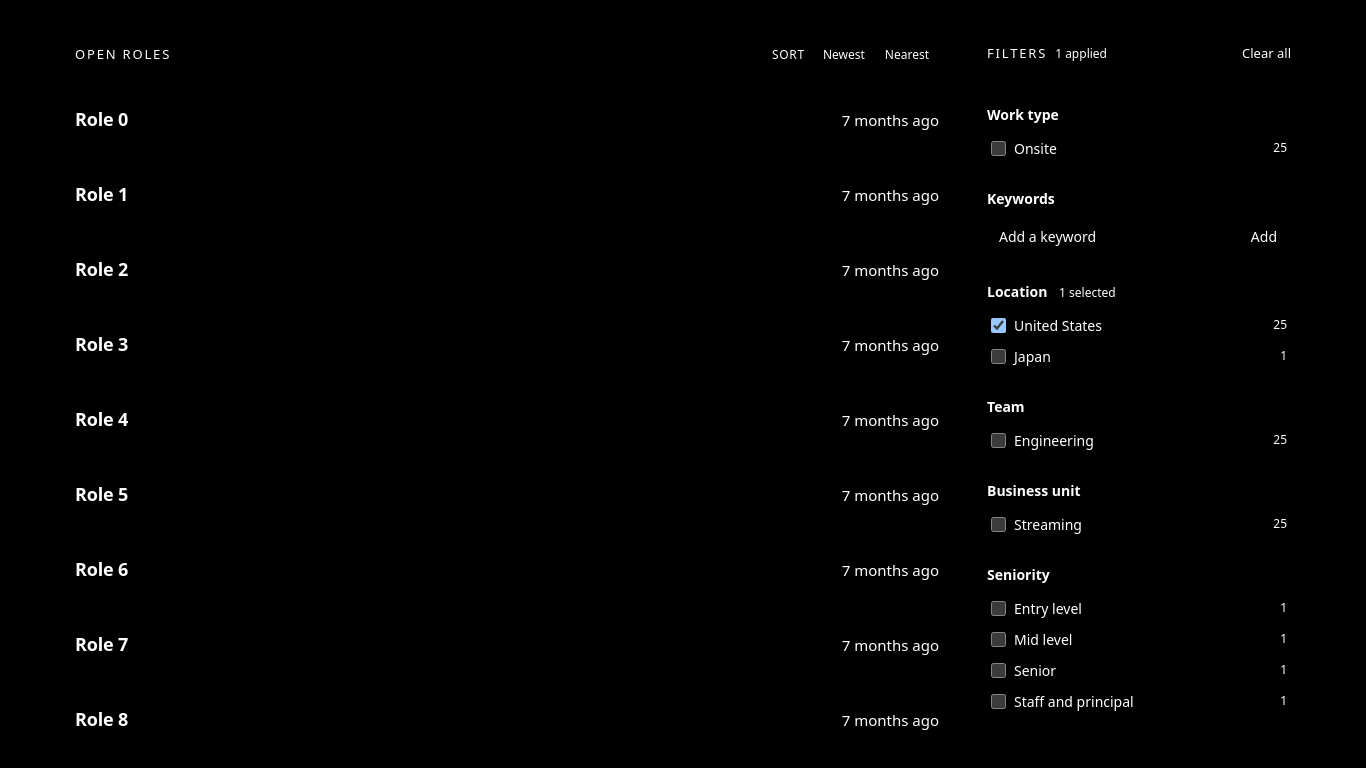
Test: the country, in the browser › remembers everywhere when the visitor unticks their last country
Click the checkbox labelled "United States 25" at (998, 325), box top-left (991, 318), bottom-right (1006, 332)
(page scrolled)
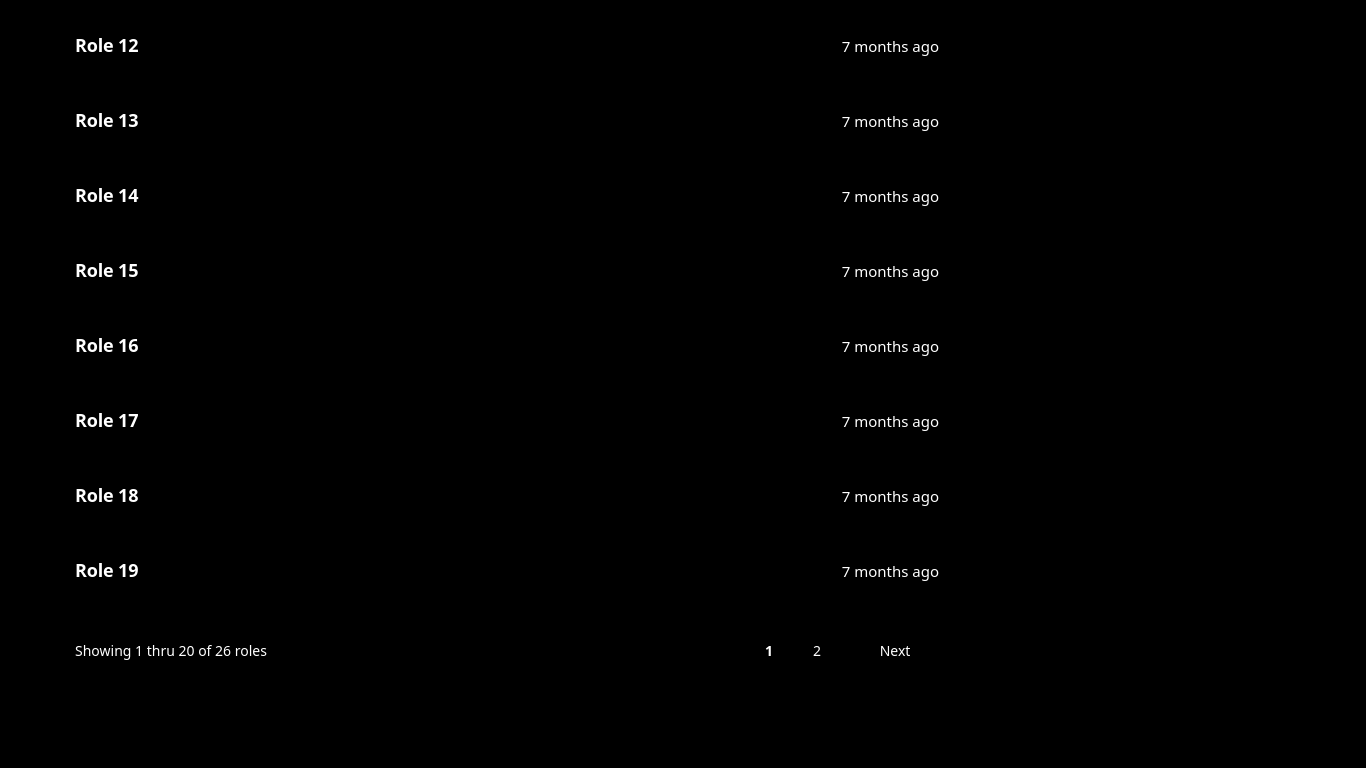
Check: the text "Showing 1 thru 20 of 26 roles" is shown, box top-left (75, 640), bottom-right (267, 661)
